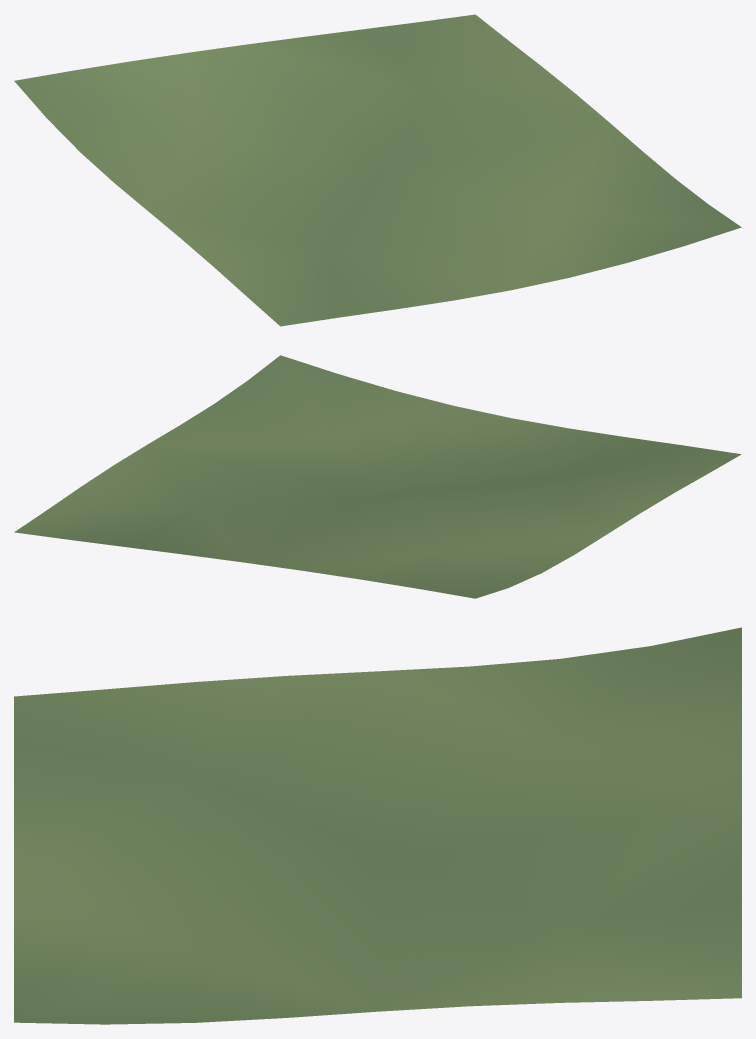
Rendered from Terrain-2-7-4.glb.
3 renders of one model, top to bottom at view 1: azimuth 30°, elevation 25°; view 2: azimuth 150°, elevation 25°; view 3: azimuth 270°, elevation 25°, orthographic. The views are drawn at different scales.
Visible parts, largest first — view 1: Terrain-2-7-4; view 2: Terrain-2-7-4; view 3: Terrain-2-7-4.
Part boxes in pixels (x1,y1,x2,y2): Terrain-2-7-4: [14, 14, 741, 326]; Terrain-2-7-4: [14, 355, 741, 598]; Terrain-2-7-4: [14, 627, 741, 1024].
Size of the model in its own units: 6 by 0.8997 by 6.
